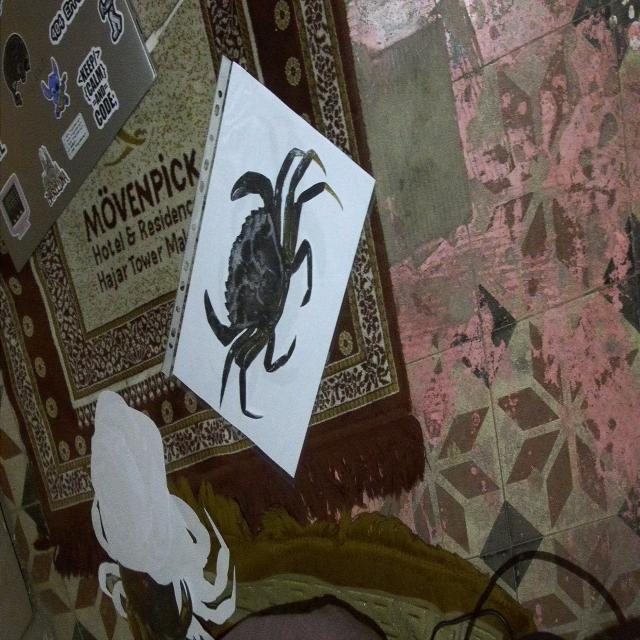European_Green_Crab: (181, 98, 344, 451)
